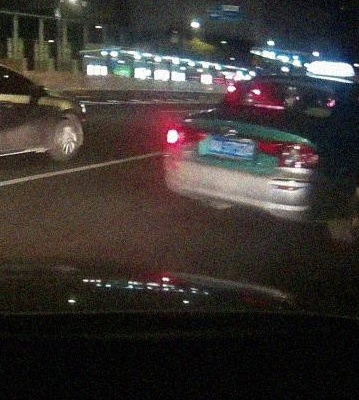L_light: (164, 127, 206, 147)
R_light: (257, 141, 320, 169)
T_light: (253, 102, 284, 109)
night-left: (163, 76, 359, 241)
